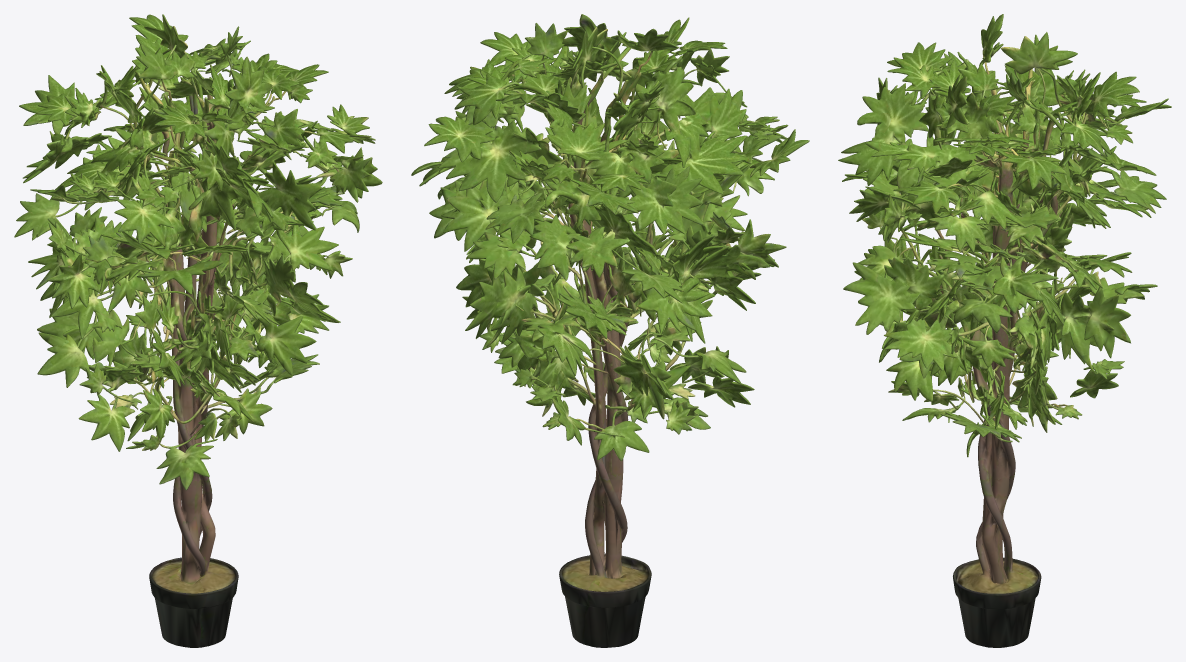
The model's file is grosspflanze-01.glb.
3 renders of one model, left to right at view 1: azimuth 30°, elevation 25°; view 2: azimuth 150°, elevation 25°; view 3: azimuth 270°, elevation 25°, orthographic. The views are drawn at different scales.
Size of the model in its own units: 1.13 by 1.9 by 0.9602.
Materials: 1 (1 with a texture image).
